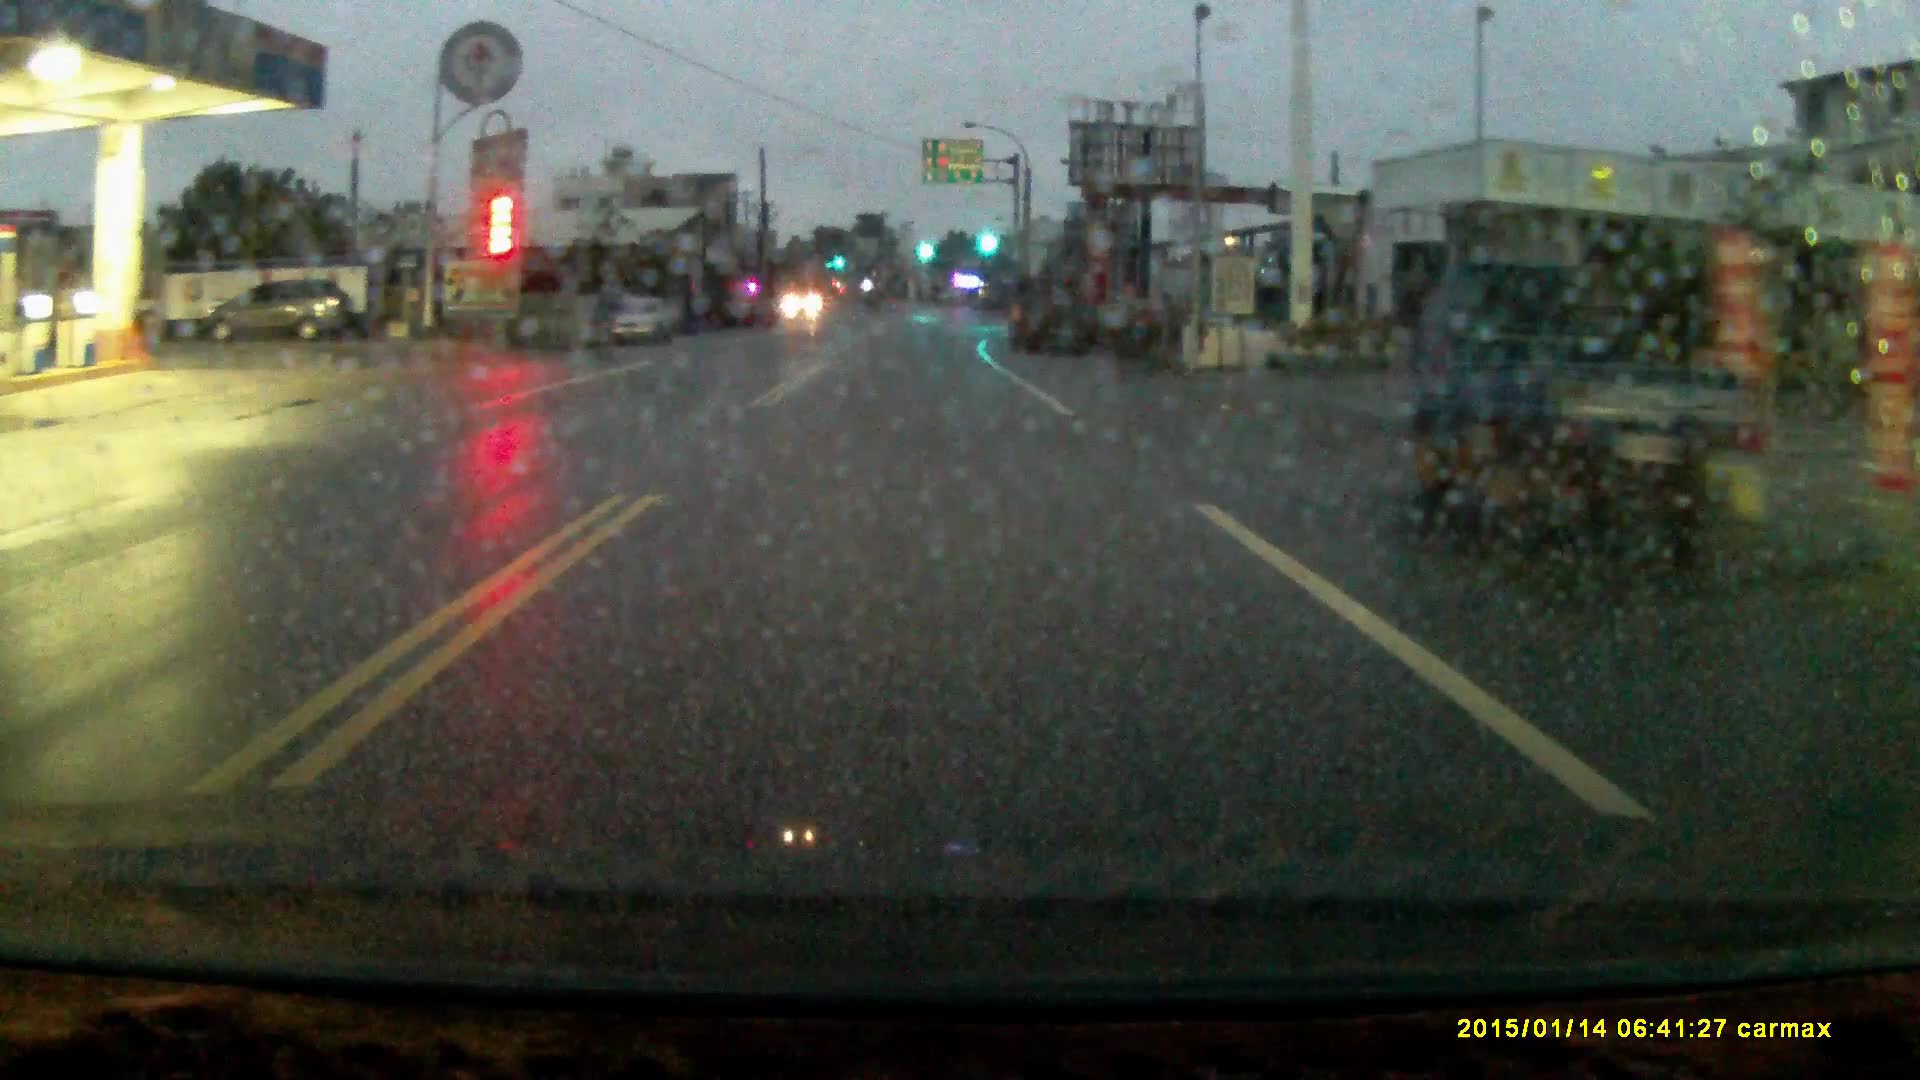rider: (589, 263, 634, 364)
vehicle: (1482, 265, 1690, 533), (200, 283, 357, 344), (1008, 269, 1103, 357), (602, 300, 693, 351)
